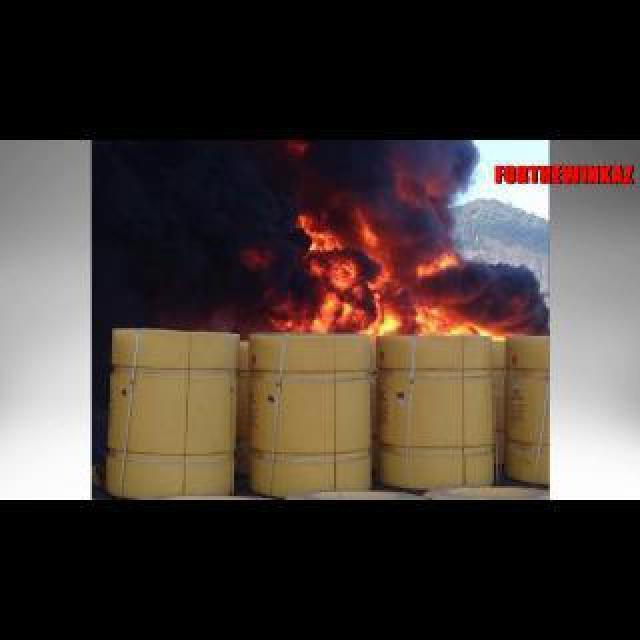Fire: (259, 209, 506, 340)
